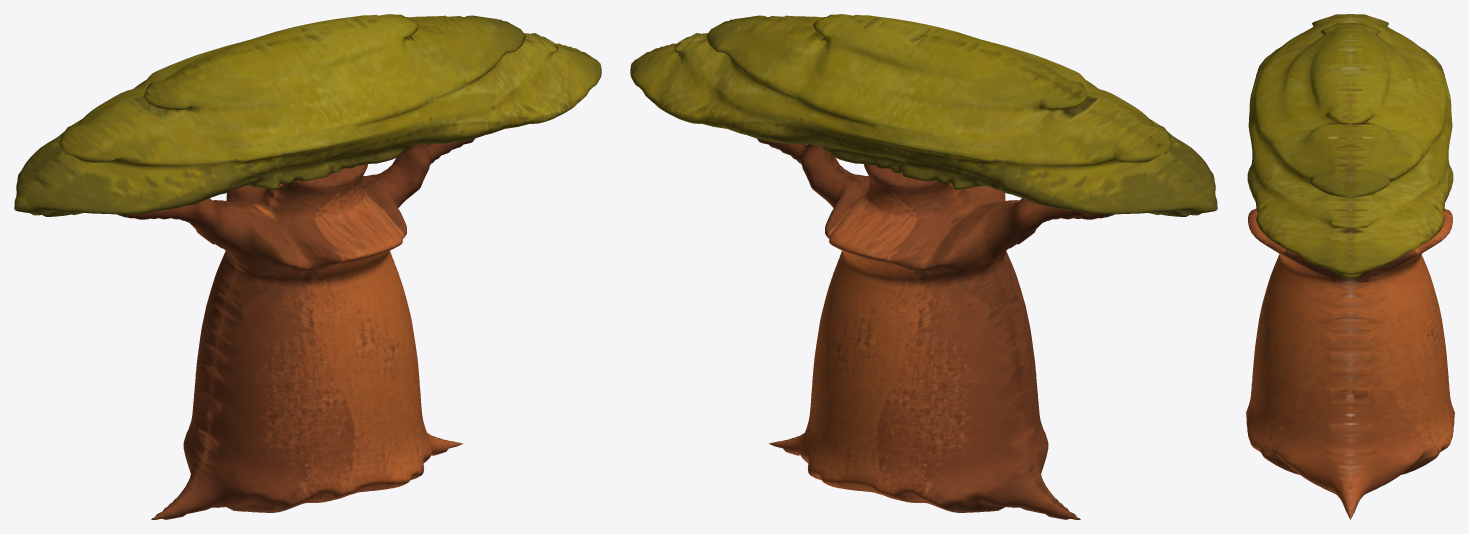
Rendered from baobab_wide.glb.
The picture shows the model from 3 angles, left to right: view 1: azimuth 30°, elevation 25°; view 2: azimuth 150°, elevation 25°; view 3: azimuth 270°, elevation 25°; orthographic projection. The views are drawn at different scales.
Visible parts, largest first — view 1: baobab_wide; view 2: baobab_wide; view 3: baobab_wide.
Boxes of the visible parts, <box> form: baobab_wide: <box>14,14,601,519</box>; baobab_wide: <box>630,14,1217,519</box>; baobab_wide: <box>1246,14,1454,519</box>.
Size of the model in its own units: 8.48 by 6.29 by 3.04.
Materials: 1 (1 with a texture image).
